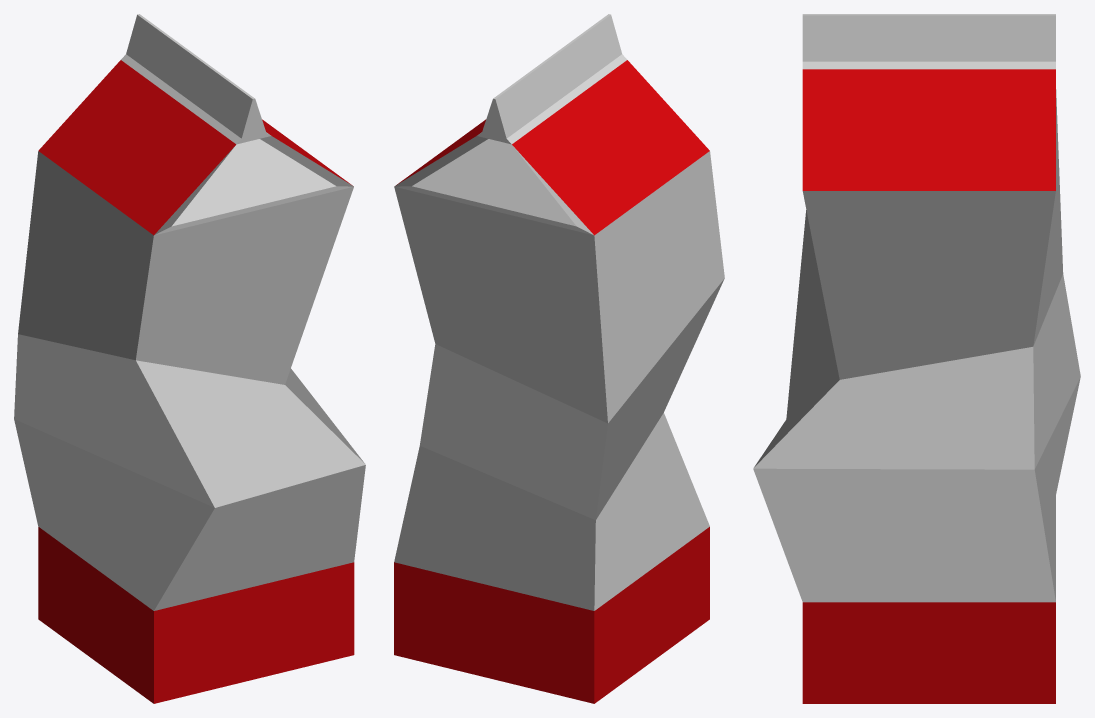
File: milk trash.fbx
The picture shows the model from 3 angles, left to right: view 1: azimuth 30°, elevation 25°; view 2: azimuth 150°, elevation 25°; view 3: azimuth 270°, elevation 25°; orthographic projection. The views are drawn at different scales.
Visible parts, largest first — view 1: Cube; view 2: Cube; view 3: Cube.
Part boxes in pixels (<box>): Cube: <box>14,14,365,703</box>; Cube: <box>394,14,724,703</box>; Cube: <box>753,14,1080,703</box>.
Bounding box in the file's own units: 2.17 × 5.54 × 2.59.
